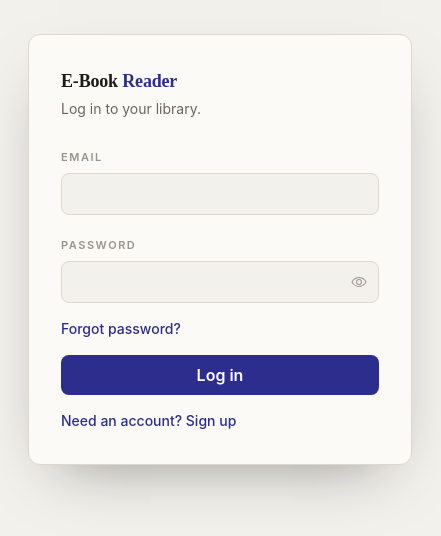
it: shows an error message when login fails
Type "a@b.com" into the field labelled "Email" at (220, 194), box [61,172,379,214]
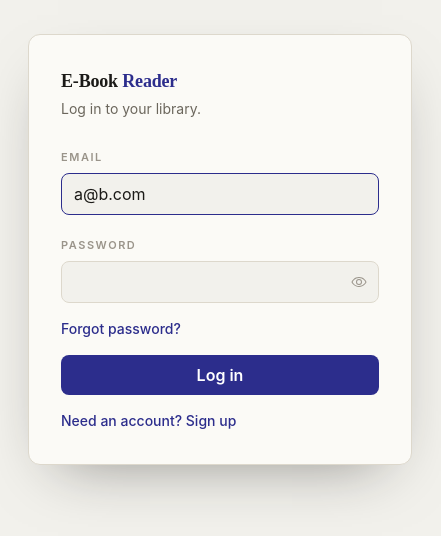
Type "wrongpass" into the password field labelled "Password" at (220, 282), box [61,260,379,302]
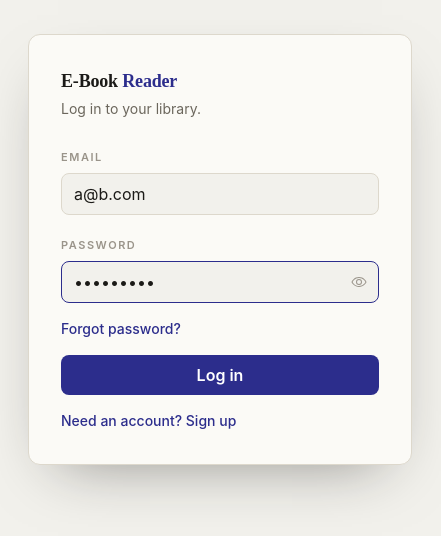
Click the button "Log in" at (220, 374), box [61,354,379,394]
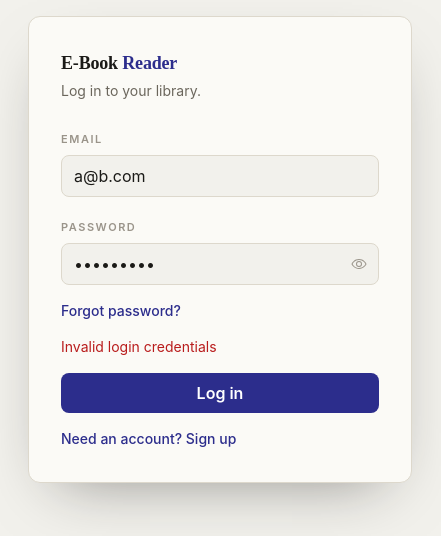
Now the text "Invalid login credentials" is shown, box [61,338,217,354]
